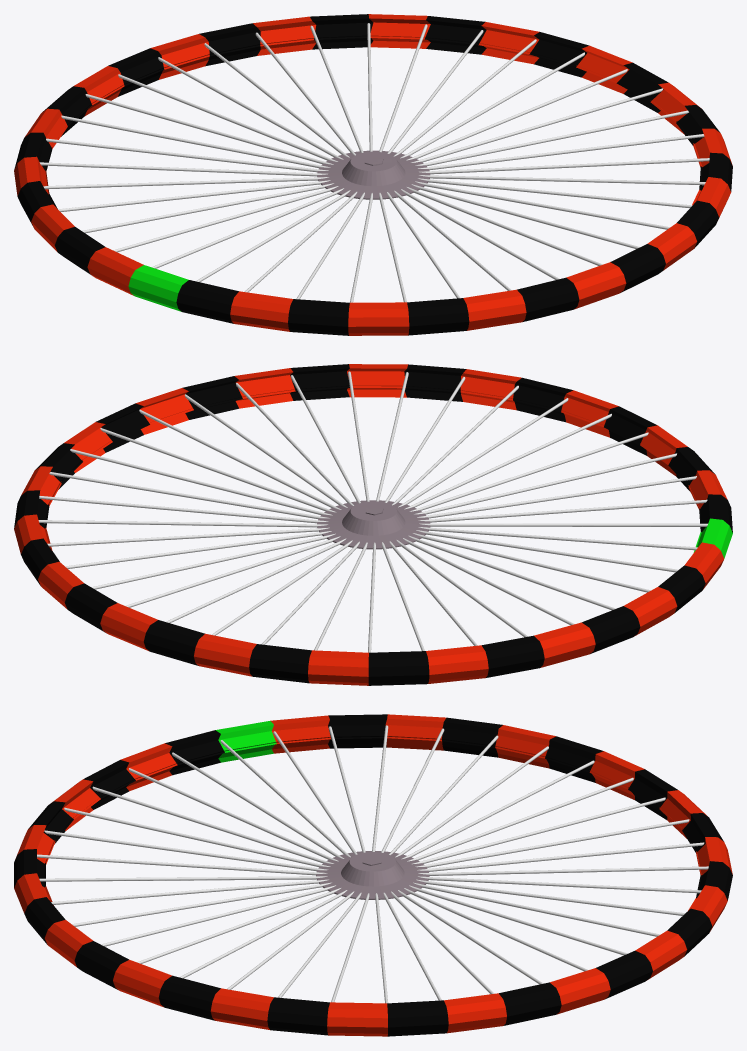
File: roleta_veryseriousgamejam.fbx
3 renders of one model, top to bottom at view 1: azimuth 30°, elevation 25°; view 2: azimuth 150°, elevation 25°; view 3: azimuth 270°, elevation 25°, orthographic.
Visible parts, largest first — view 1: Cylinder, Cylinder.001; view 2: Cylinder, Cylinder.001; view 3: Cylinder, Cylinder.001.
Boxes of the visible parts, left/top/right/bottom form: Cylinder: left=14, top=14, right=732, bottom=335; Cylinder.001: left=39, top=23, right=709, bottom=302; Cylinder: left=14, top=364, right=732, bottom=685; Cylinder.001: left=38, top=371, right=707, bottom=652; Cylinder: left=14, top=714, right=732, bottom=1036; Cylinder.001: left=37, top=725, right=708, bottom=1003.
Bounding box in the file's own units: 207 × 9.38 × 207.
